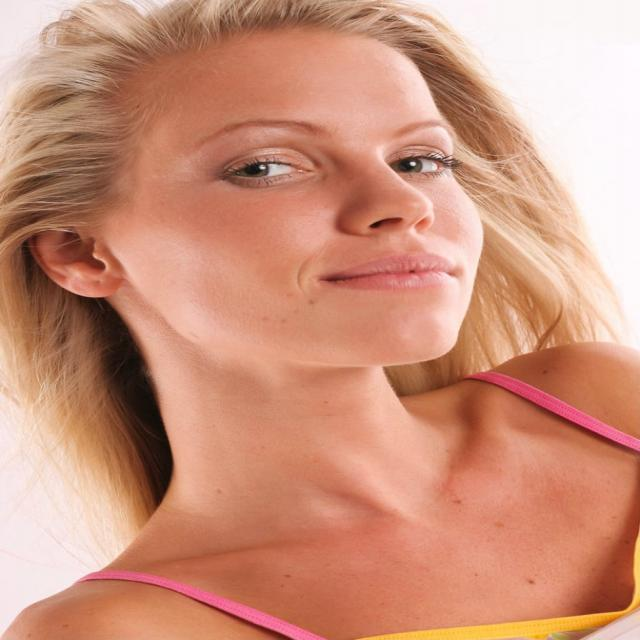earlobe: (78, 266, 122, 299)
eye: (224, 157, 316, 184), (383, 148, 453, 180)
nose: (336, 213, 469, 258)
wholeear: (25, 210, 122, 299)
